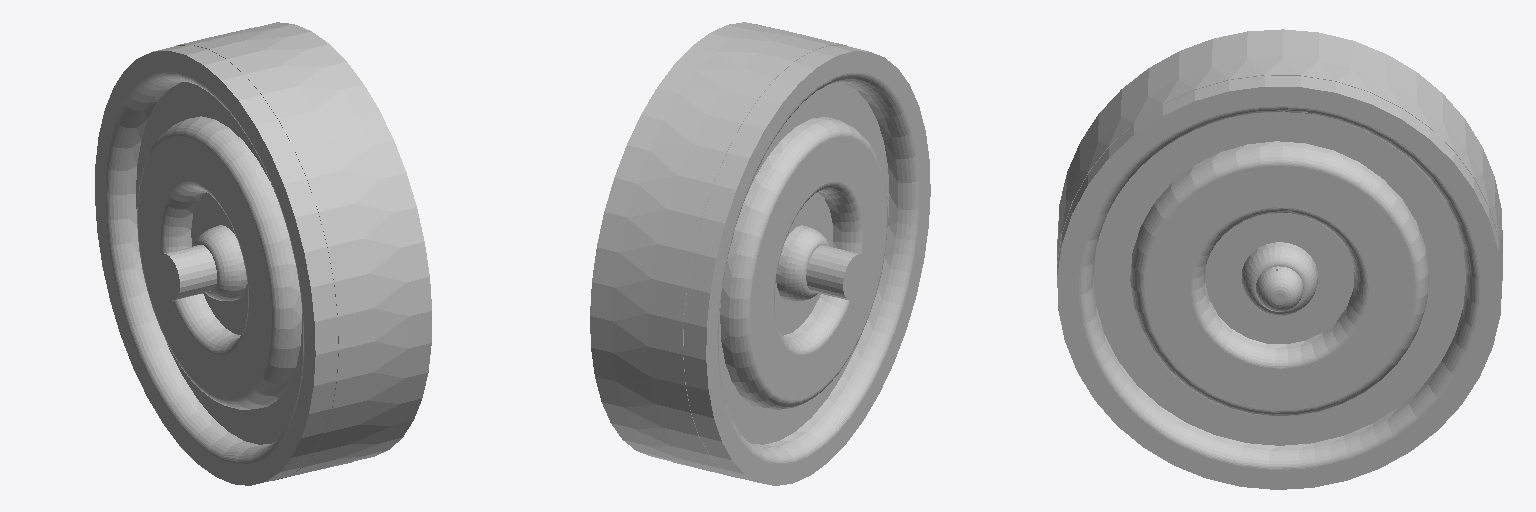
The model's file is vespa_wheel_metal.obj.
3 renders of one model, left to right at view 1: azimuth 30°, elevation 25°; view 2: azimuth 150°, elevation 25°; view 3: azimuth 270°, elevation 25°, orthographic.
Parts seen in each view (by area): view 1: disk_(1); view 2: disk_(1); view 3: disk_(1).
Boxes of the visible parts, box(x1,y1,x2,y2) form: disk_(1): box(95, 22, 431, 485); disk_(1): box(590, 22, 930, 485); disk_(1): box(1057, 29, 1502, 489).
Bounding box in the file's own units: 3.75 × 8.28 × 8.28.